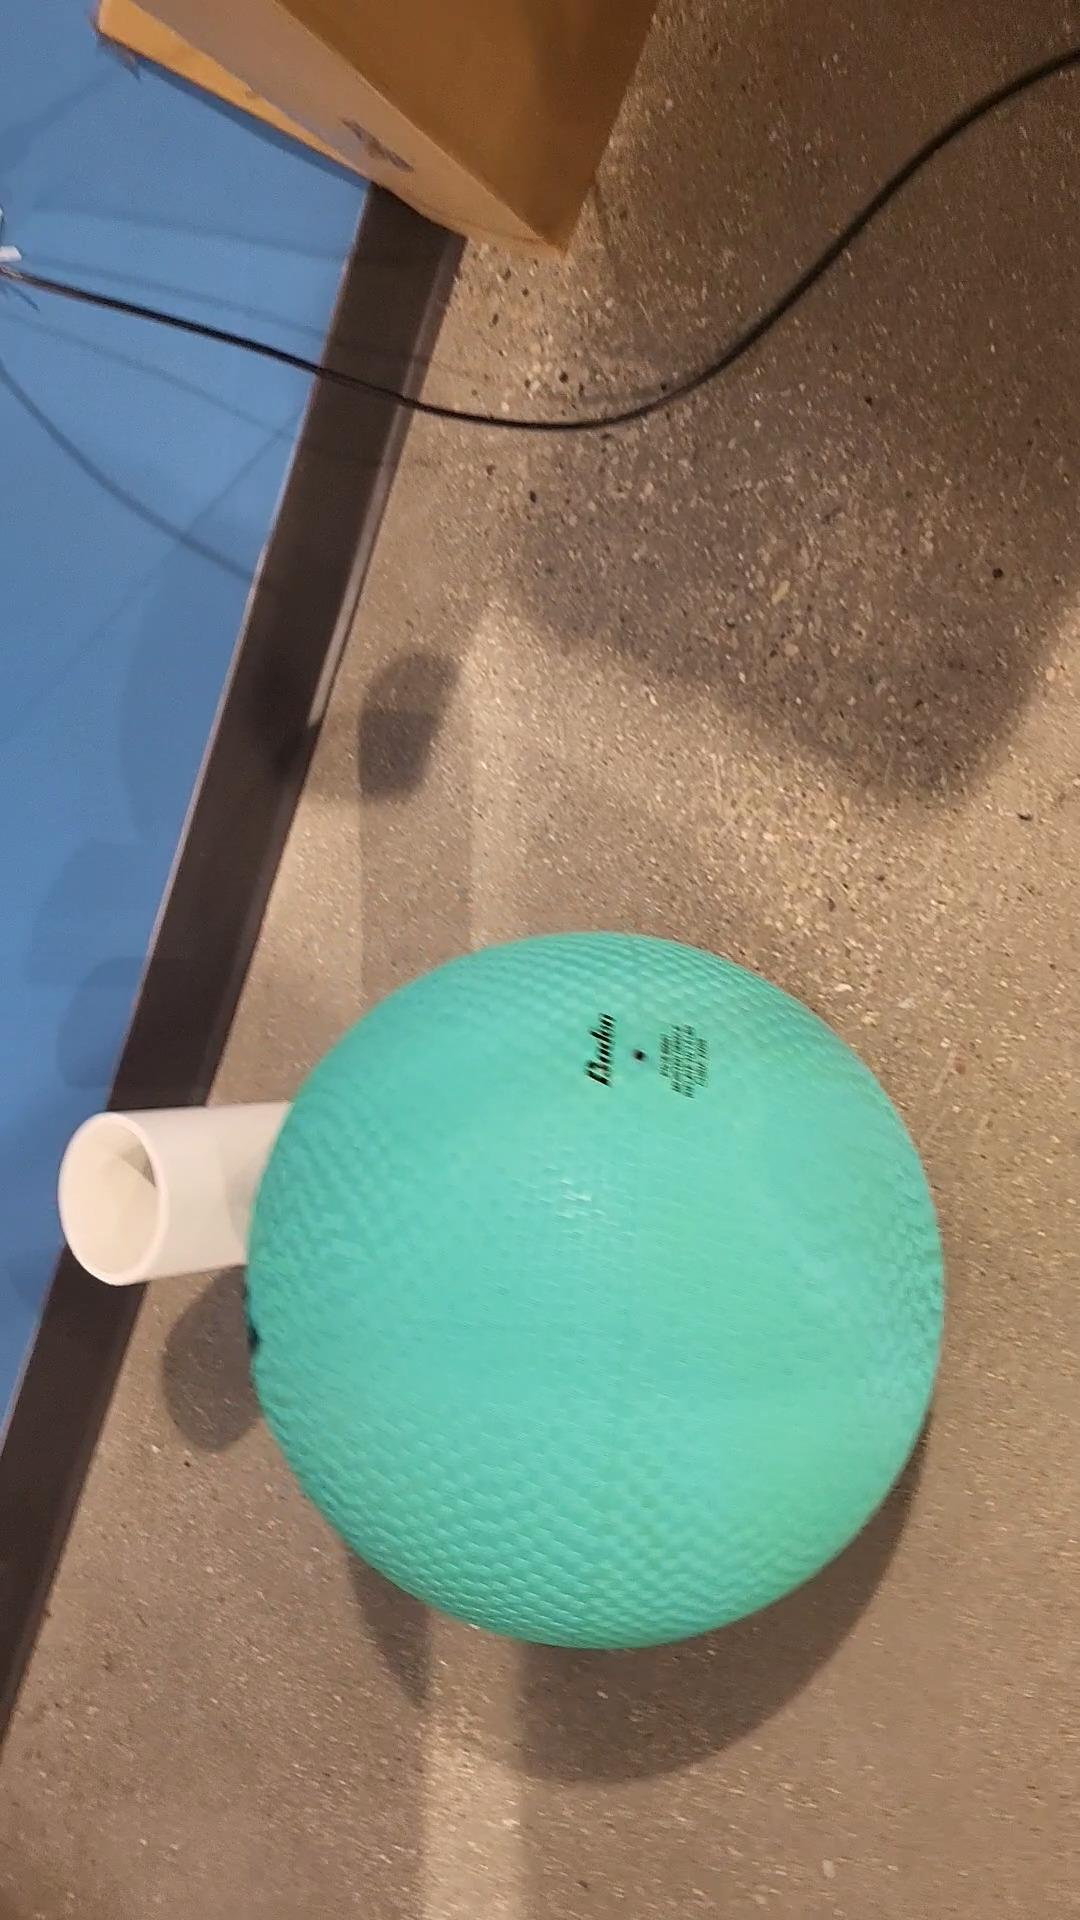algae: (243, 935, 947, 1654)
coral: (62, 1096, 319, 1288)
